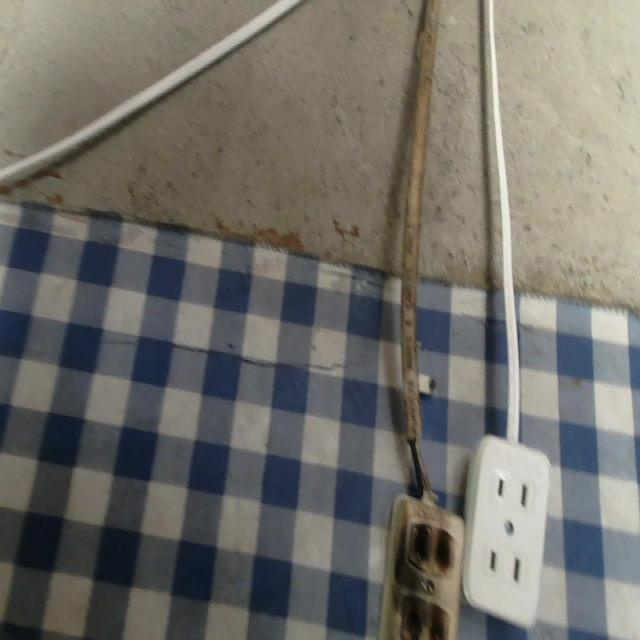-: (401, 512, 459, 579), (395, 590, 454, 638)
